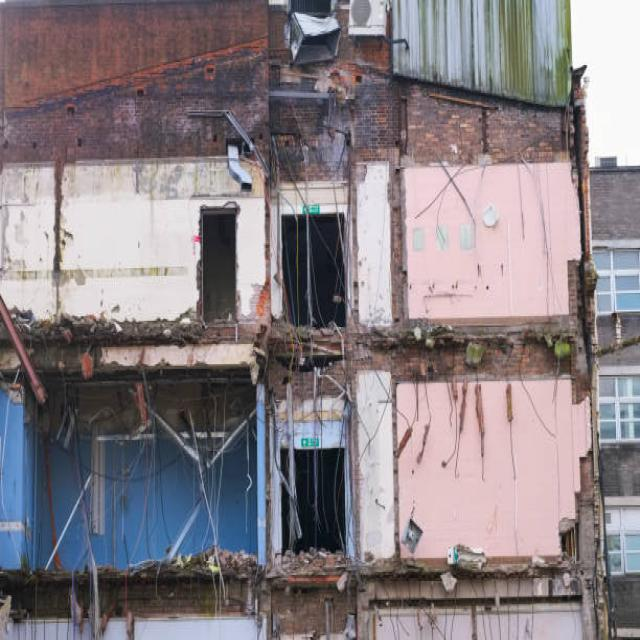Destroyed_building: (0, 0, 629, 640)
